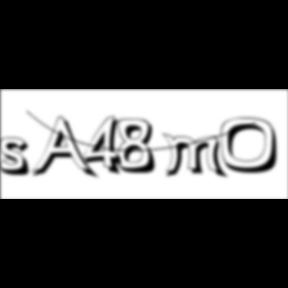4: (83, 115, 130, 179)
8: (118, 117, 162, 176)
A: (31, 116, 100, 182)
O: (220, 117, 286, 176)
m: (162, 132, 230, 181)
s: (1, 137, 37, 179)
